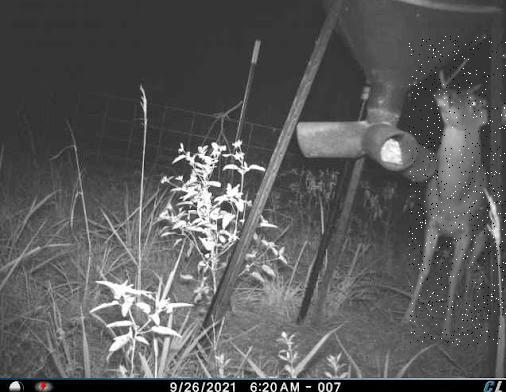Deer: (409, 36, 506, 345)
